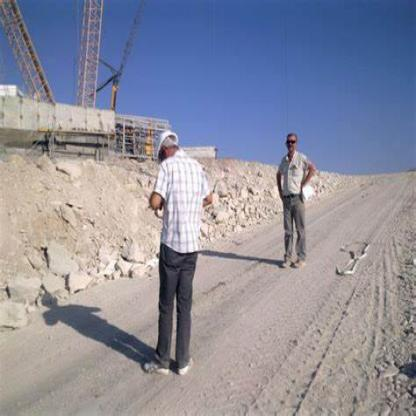person: (132, 110, 208, 373), (277, 125, 314, 278)
